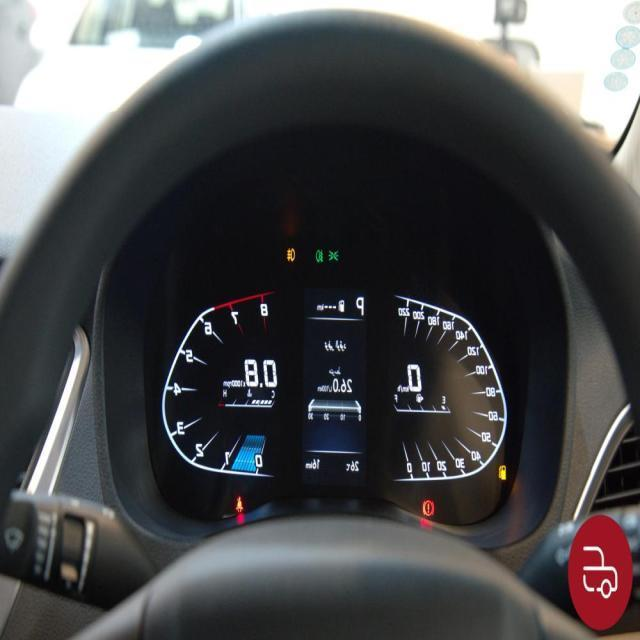Seat Belt: (236, 497, 243, 512)
